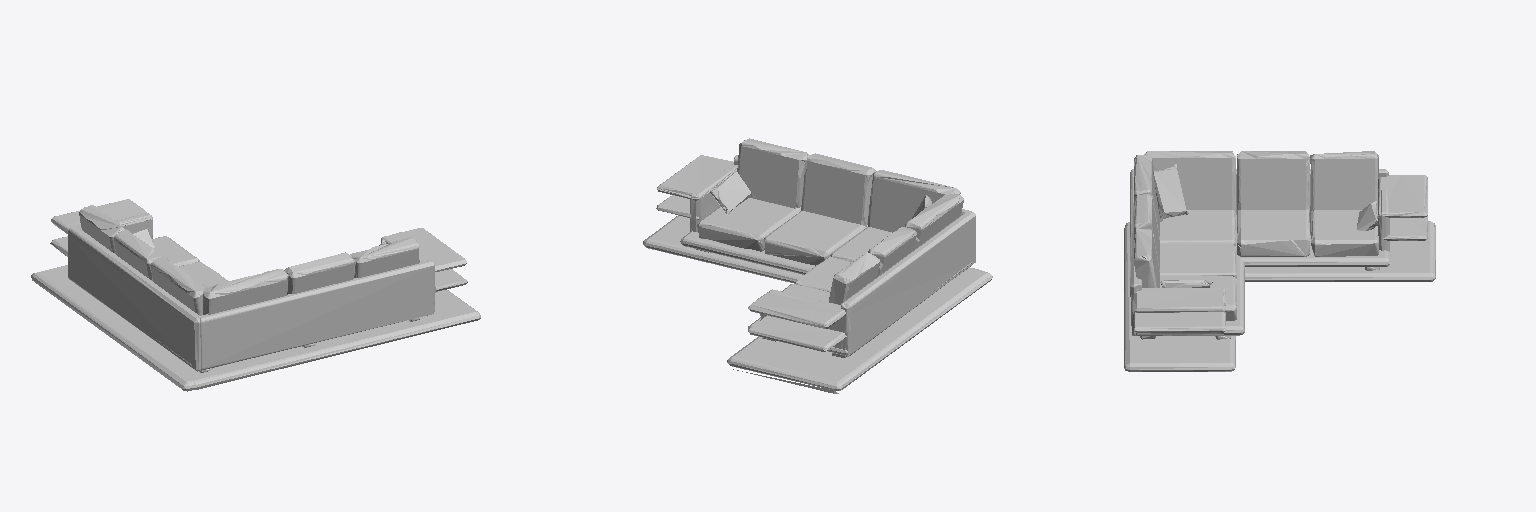
The model's file is CanapeSimple.obj.
3 views of the same model, side by side, from view 1: azimuth 30°, elevation 25°; view 2: azimuth 150°, elevation 25°; view 3: azimuth 270°, elevation 25° (orthographic).
Visible parts, largest first — view 1: Extrude; view 2: Extrude; view 3: Extrude.
Part boxes in pixels (x1,y1,x2,y2): Extrude: (31, 199, 480, 391); Extrude: (643, 138, 992, 393); Extrude: (1124, 151, 1435, 371).
Bounding box in the file's own units: 2.77 × 0.8111 × 2.51.